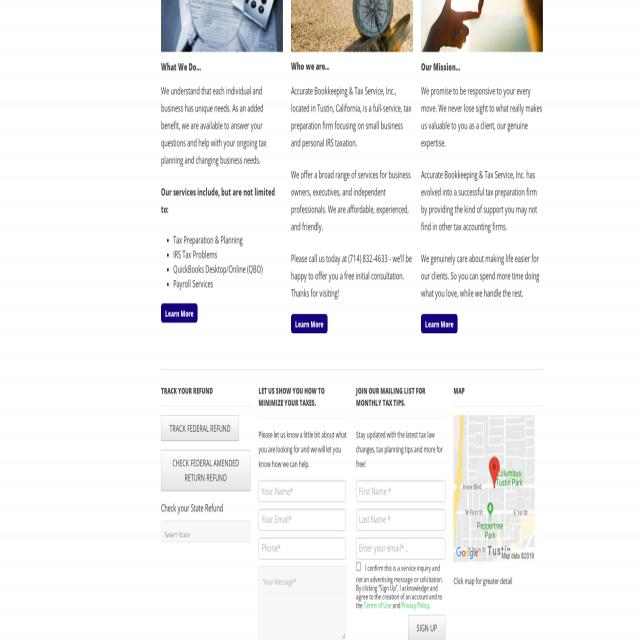button: (454, 415, 534, 562), (161, 0, 283, 53), (291, 0, 413, 53), (421, 0, 543, 53), (161, 450, 251, 491), (161, 415, 239, 441), (408, 614, 446, 640), (421, 313, 457, 334), (161, 303, 198, 323), (291, 314, 328, 334)
field: (259, 566, 345, 640), (356, 509, 446, 531), (161, 520, 251, 542), (356, 537, 446, 559), (258, 509, 346, 531), (258, 537, 346, 559), (356, 481, 446, 502), (258, 481, 346, 502), (356, 562, 362, 572)
